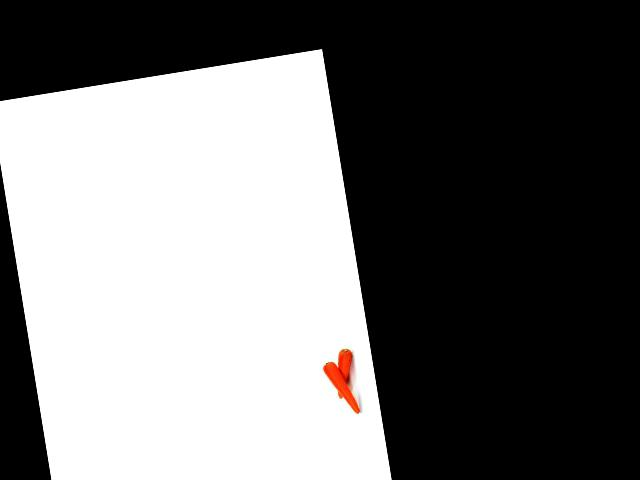carrot: (329, 343, 359, 402)
